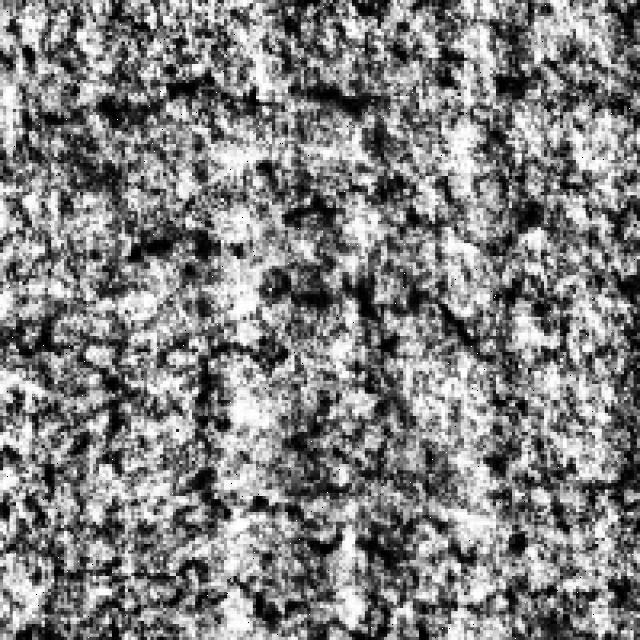Pitted_Surface: (93, 44, 612, 346), (51, 444, 640, 634)
